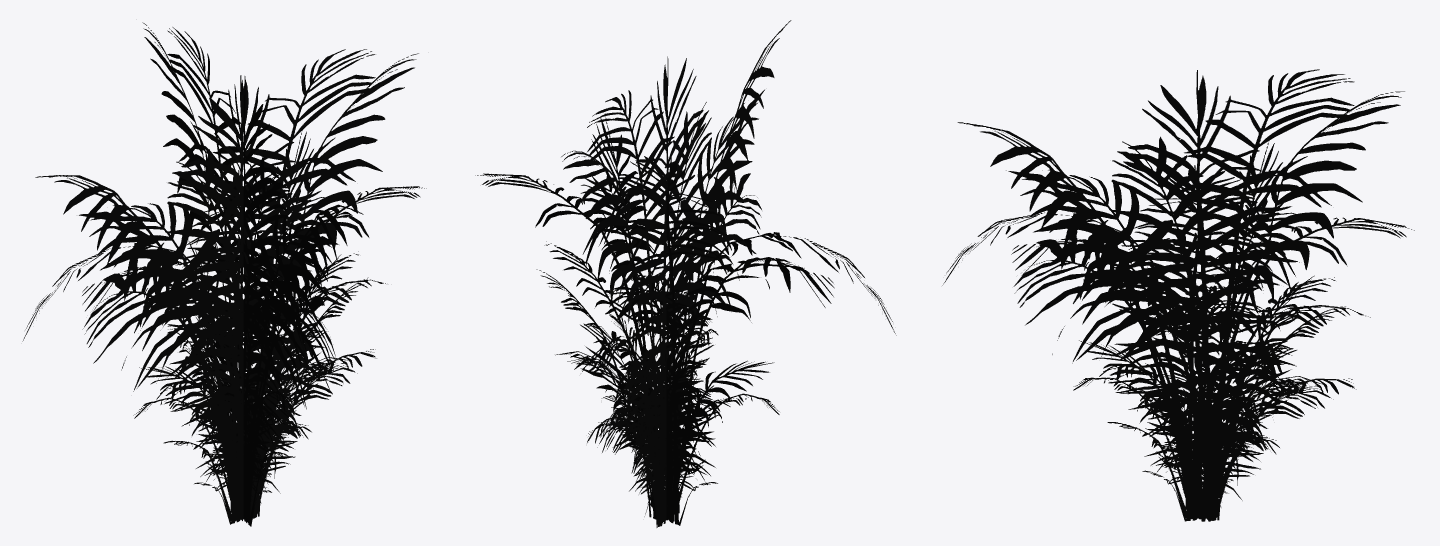
File: MSH_ParlorPalm_Imposters_BCDE.fbx
3 views of the same model, side by side, from view 1: azimuth 30°, elevation 25°; view 2: azimuth 150°, elevation 25°; view 3: azimuth 270°, elevation 25° (orthographic). The views are drawn at different scales.
Visible parts, largest first — view 1: ParlorPalm_Imposters_D_GEO, ParlorPalm_Imposters_E_GEO, ParlorPalm_Imposters_B_GEO, ParlorPalm_Imposters_C_GEO; view 2: ParlorPalm_Imposters_D_GEO, ParlorPalm_Imposters_E_GEO, ParlorPalm_Imposters_B_GEO, ParlorPalm_Imposters_C_GEO; view 3: ParlorPalm_Imposters_D_GEO, ParlorPalm_Imposters_E_GEO, ParlorPalm_Imposters_B_GEO, ParlorPalm_Imposters_C_GEO.
Part boxes in pixels (<box>): ParlorPalm_Imposters_D_GEO: <box>35,22,418,523</box>; ParlorPalm_Imposters_E_GEO: <box>22,128,426,519</box>; ParlorPalm_Imposters_B_GEO: <box>184,315,350,526</box>; ParlorPalm_Imposters_C_GEO: <box>181,349,338,522</box>; ParlorPalm_Imposters_D_GEO: <box>561,20,791,526</box>; ParlorPalm_Imposters_E_GEO: <box>475,117,896,520</box>; ParlorPalm_Imposters_B_GEO: <box>555,291,719,527</box>; ParlorPalm_Imposters_C_GEO: <box>567,347,730,523</box>; ParlorPalm_Imposters_D_GEO: <box>957,69,1404,520</box>; ParlorPalm_Imposters_E_GEO: <box>942,142,1414,518</box>; ParlorPalm_Imposters_B_GEO: <box>1140,311,1325,521</box>; ParlorPalm_Imposters_C_GEO: <box>1128,357,1311,520</box>.
Size of the model in its own units: 185 by 189 by 185.
